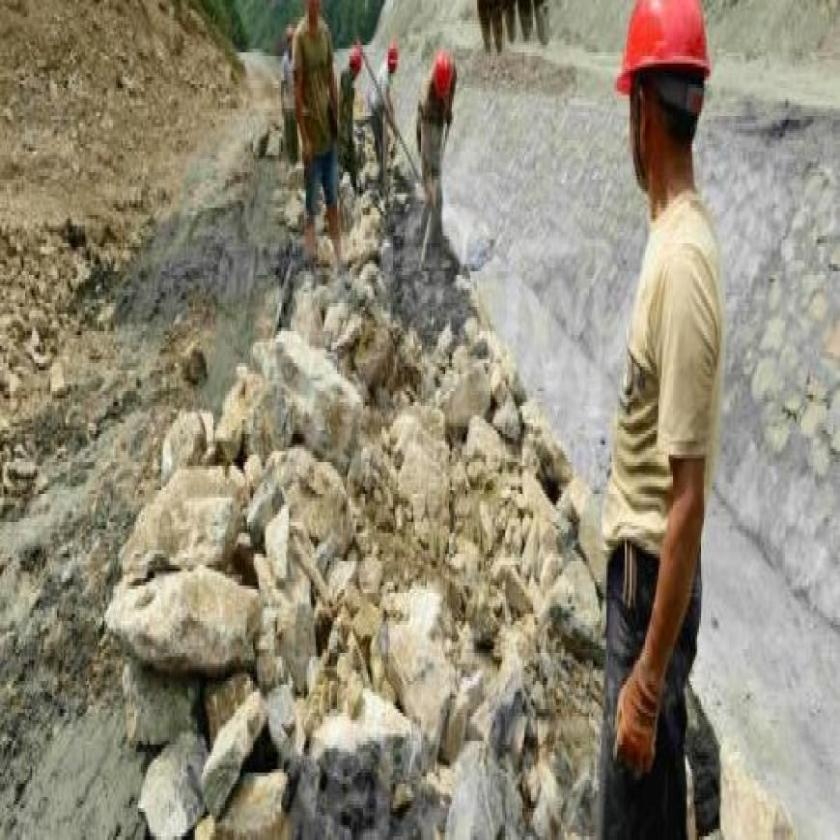Con_casco: (614, 0, 713, 217), (429, 51, 460, 106)
